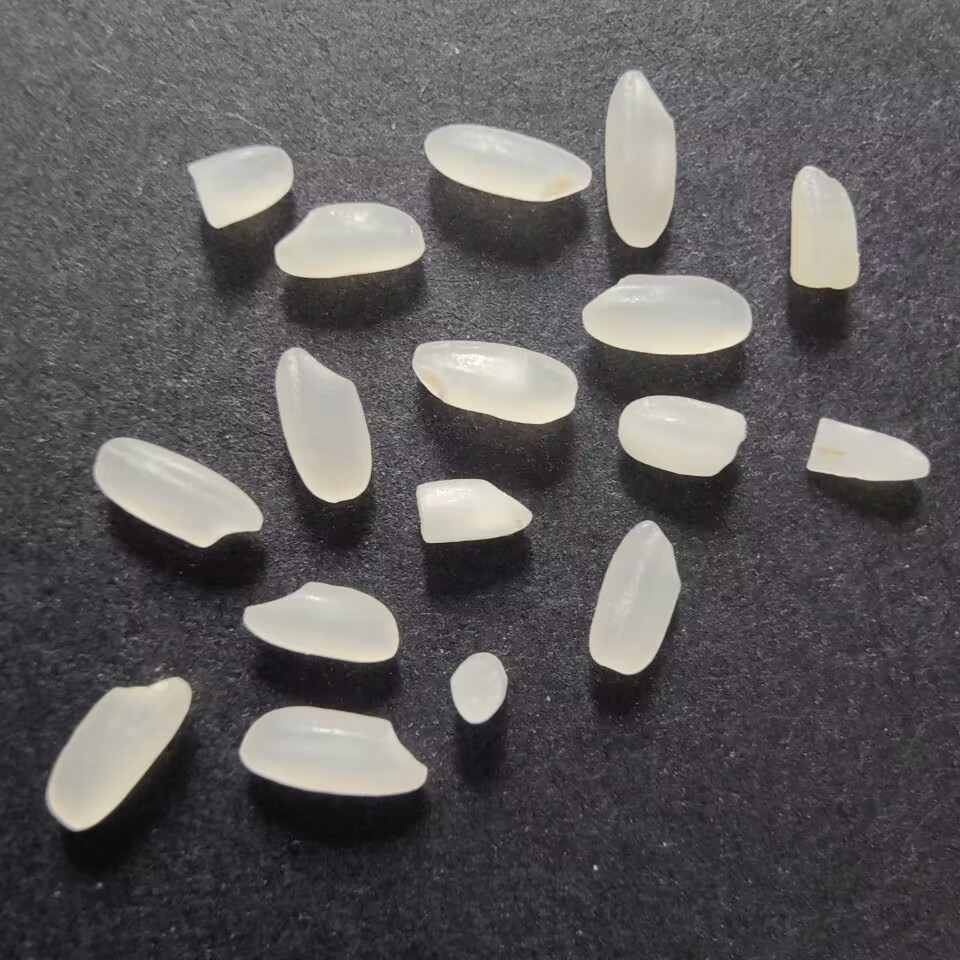broken: (611, 387, 751, 482), (178, 135, 302, 232), (783, 153, 862, 301), (802, 406, 933, 490), (406, 472, 536, 554), (440, 647, 514, 729)
rice: (43, 672, 194, 839), (88, 433, 271, 553), (230, 701, 435, 801), (268, 342, 378, 507), (584, 515, 685, 682), (406, 336, 582, 426), (574, 271, 758, 357), (423, 118, 600, 205), (601, 66, 683, 252), (238, 579, 402, 672), (268, 198, 430, 287)
